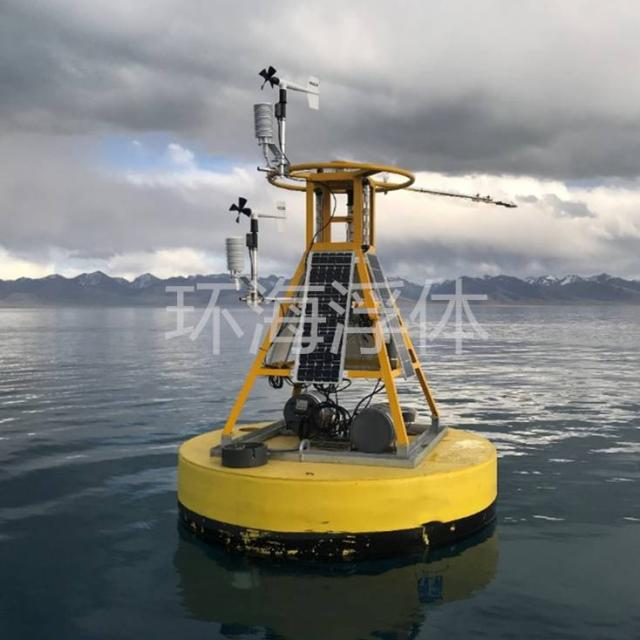buoy: (168, 60, 514, 558)
